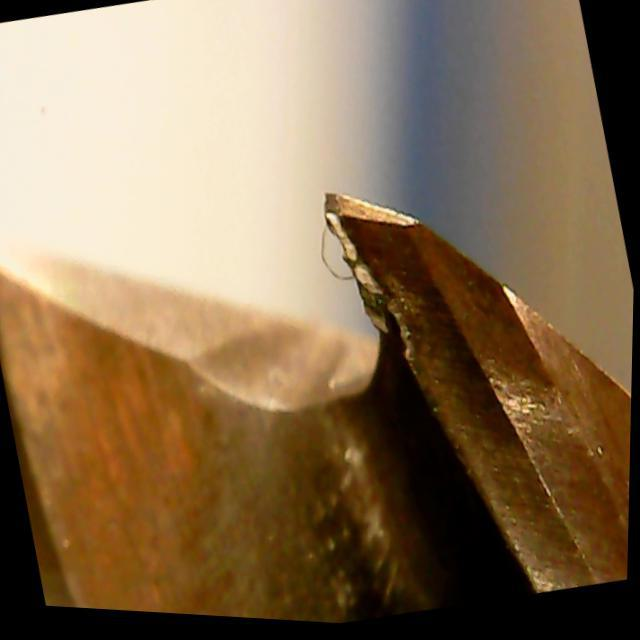Tool-wear-class-2: (305, 143, 536, 487)
